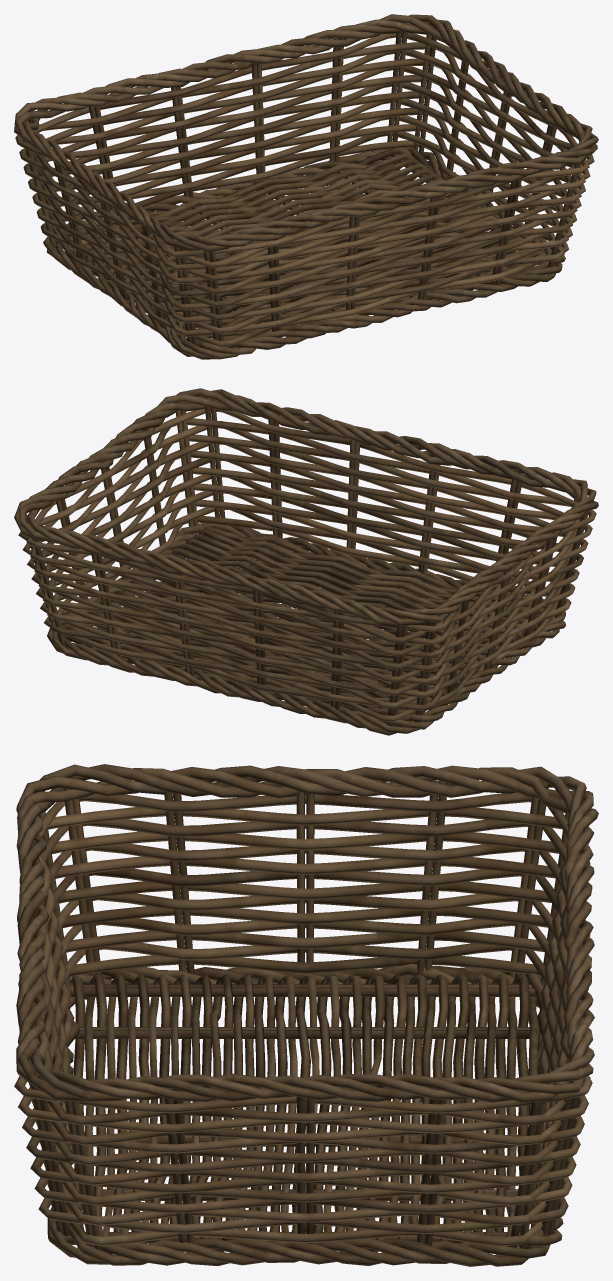
The model's file is wicker_basket_01.glb.
3 renders of one model, top to bottom at view 1: azimuth 30°, elevation 25°; view 2: azimuth 150°, elevation 25°; view 3: azimuth 270°, elevation 25°, orthographic. The views are drawn at different scales.
Visible parts, largest first — view 1: wicker_basket_01; view 2: wicker_basket_01; view 3: wicker_basket_01.
Part boxes in pixels (<box>): wicker_basket_01: <box>14,14,598,359</box>; wicker_basket_01: <box>14,388,598,735</box>; wicker_basket_01: <box>14,764,598,1266</box>.
Bounding box in the file's own units: 0.3832 × 0.1174 × 0.295.
Materials: 1 (1 with a texture image).
